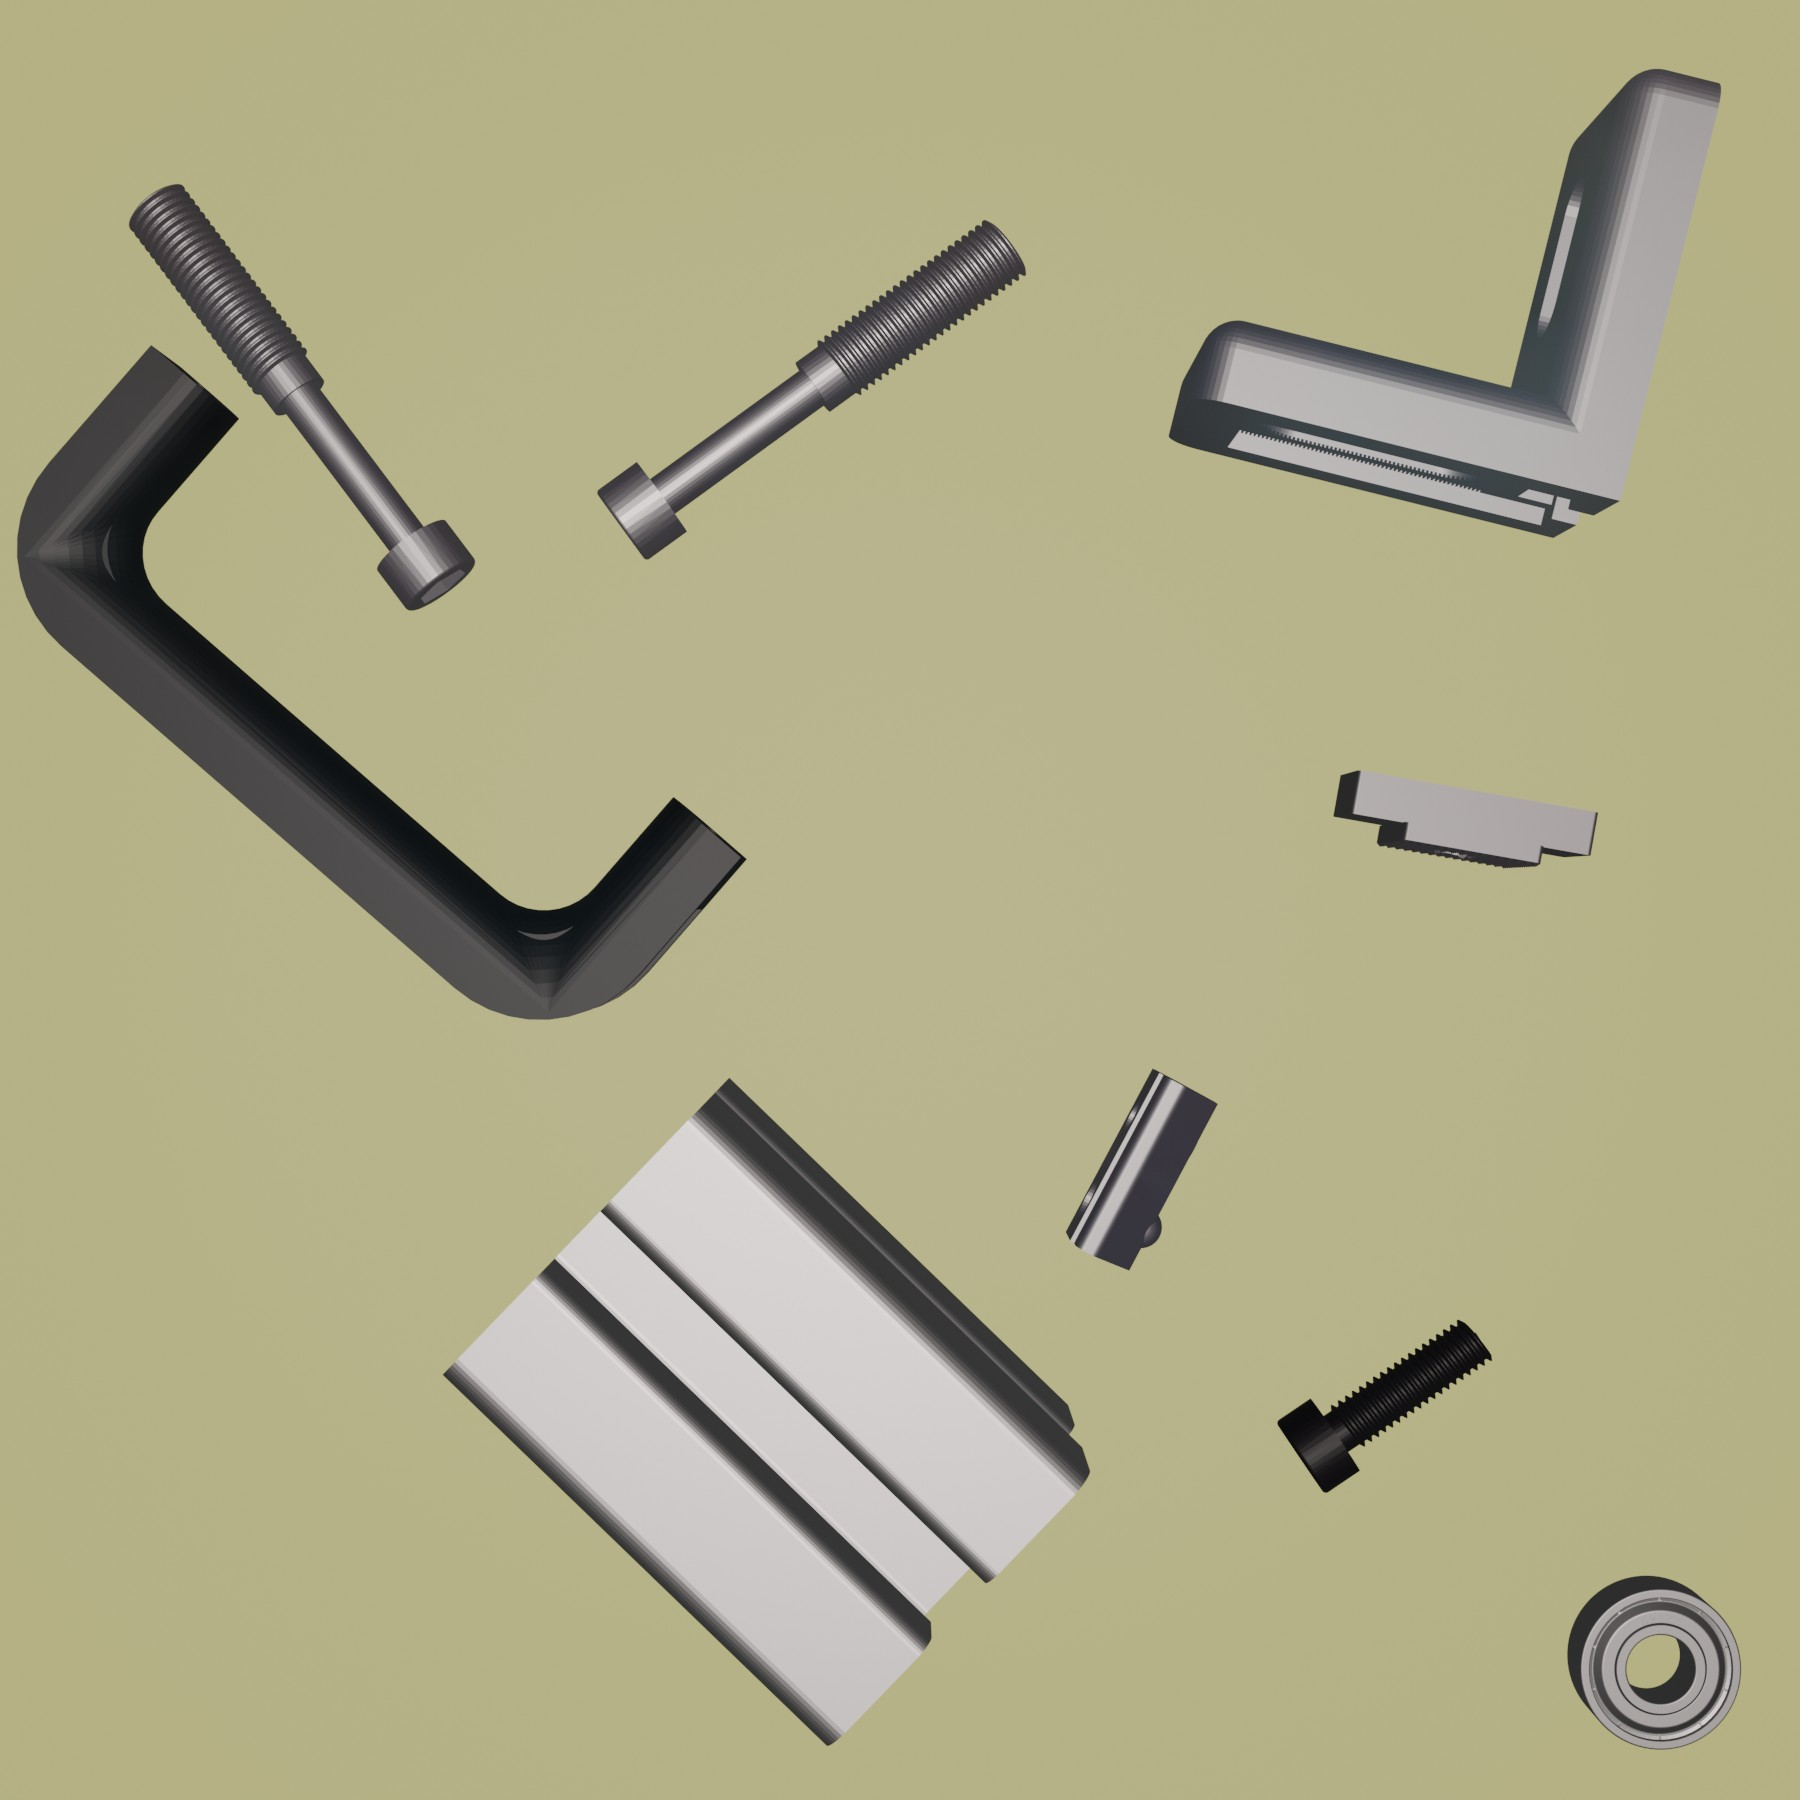Aluminium Extension: (438, 1073, 1093, 1746)
Ball Bearing: (1568, 1573, 1746, 1752)
Multiwinkel: (1165, 64, 1724, 542)
Pull Handle: (13, 341, 748, 1022)
Shoulder Socket Head Cap Screw: (129, 181, 480, 615), (593, 219, 1029, 562)
Socket Head Cap Screw: (1274, 1319, 1493, 1495)
T Nut Square: (1329, 766, 1602, 872)
T Spring Nut: (1063, 1065, 1221, 1277)
